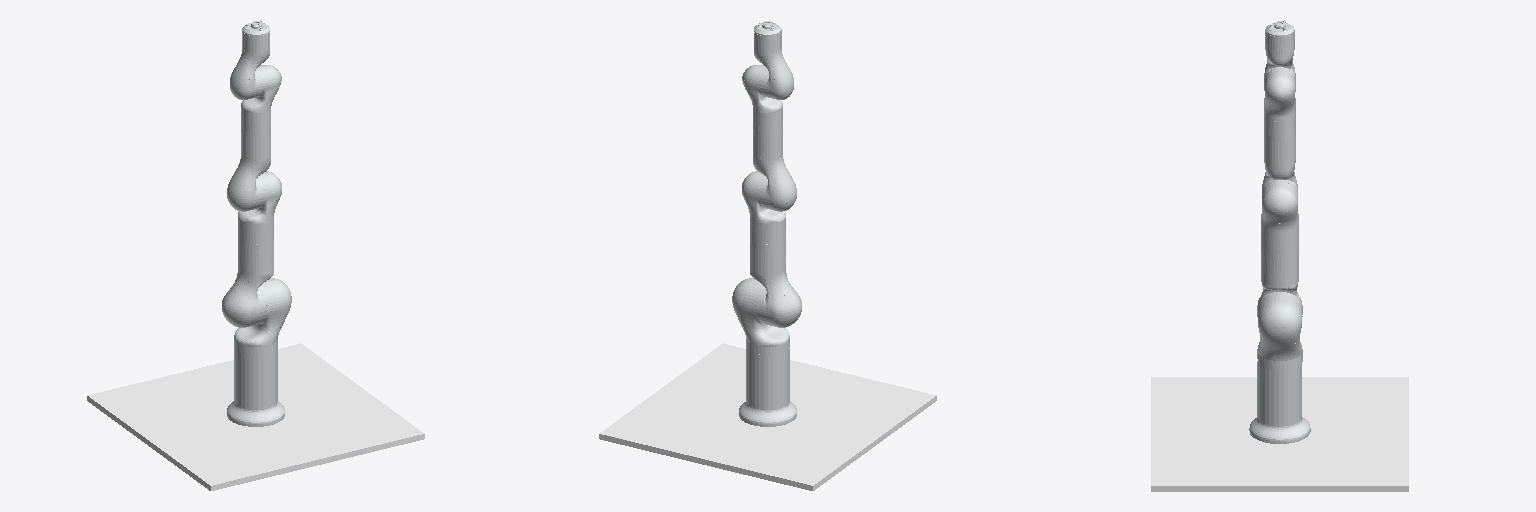
robot.urdf — orochi7:
<?xml version="1.0" encoding="utf-8"?>
<!-- This URDF was automatically created by SolidWorks to URDF Exporter! Originally created by [author] ([email redacted]) 
     Commit Version: 1.5.1-0-g916b5db  Build Version: 1.5.7152.31018
     For more information, please see http://wiki.ros.org/sw_urdf_exporter -->
<robot
  name="orochi7" xmlns:xacro="http://ros.org/wiki/xacro">

<!-- ########### Defining the colors used in this robot ########### -->

  <material name="White">
      <color rgba="0.898039215686275 0.917647058823529 0.929411764705882 1"/>
  </material>

<!-- ##########################base_link########################## -->
  <link name="dummy">
    </link>
  <link
    name="base_link">
    <inertial>
      <origin
        xyz="0 0 0.01"
        rpy="0 0 0" />
      <mass
        value="12.8" />
      <inertia
        ixx="0.683093333333333"
        ixy="0"
        ixz="0"
        iyy="0.683093333333333"
        iyz="0"
        izz="1.36533333333333" />
    </inertial>

    <visual>
      <origin
        xyz="0 0 0"
        rpy="0 0 0" />
      <geometry>
        <mesh
          filename="package://orochi7/meshes/base_link.STL" />
      </geometry>
      <material
        name="">
        <color
          rgba="1 1 1 1" />
      </material>
    </visual>
    <collision>
      <origin
        xyz="0 0 0"
        rpy="0 0 0" />
      <geometry>
        <mesh
          filename="package://orochi7/meshes/base_link.STL" />
      </geometry>
    </collision>
  </link>

  <joint name="dummy_joint" type="fixed">
    <parent link="dummy"/>
    <child link="base_link"/>
  </joint>
<!-- ##########################link_0########################## -->

  <link
    name="Link_0">
    <inertial>
      <origin
        xyz="2.2136457538879E-08 -2.79407750550348E-07 0.0924156438654813"
        rpy="0 0 0" />
      <mass
        value="1.88014486866152" />
      <inertia
        ixx="0.0151317721890805"
        ixy="1.2237952342225E-08"
        ixz="2.08088296155032E-09"
        iyy="0.0151316127478672"
        iyz="-2.626438310439E-08"
        izz="0.010038350425731" />
    </inertial>
    <visual>
      <origin
        xyz="0 0 0"
        rpy="0 0 0" />
      <geometry>
        <mesh
          filename="package://orochi7/meshes/Link_0.STL" />
      </geometry>
      <material
        name="">
        <color
          rgba="0.898039215686275 0.917647058823529 0.929411764705882 1" />
      </material>
    </visual>
    <collision>
      <origin
        xyz="0 0 0"
        rpy="0 0 0" />
      <geometry>
        <mesh
          filename="package://orochi7/meshes/Link_0.STL" />
      </geometry>
    </collision>
  </link>
  <joint
    name="joint_0"
    type="fixed">
    <origin
      xyz="0 0 0.02"
      rpy="0 0 0" />
    <parent
      link="base_link" />
    <child
      link="Link_0" />
    <axis
      xyz="0 0 0" />
  </joint>

<!-- ##########################Link_1########################## -->

  <link
    name="Link_1">
    <inertial>
      <origin
        xyz="0.0228471602671468 0.000500609688309121 0.0788576426309777"
        rpy="0 0 0" />
      <mass
        value="2.51197128388461" />
      <inertia
        ixx="0.012008081154807"
        ixy="-2.56915293947424E-05"
        ixz="-0.00152433945966359"
        iyy="0.0101247306598904"
        iyz="-8.26381083889673E-06"
        izz="0.00695225382377171" />
    </inertial>
    <visual>
      <origin
        xyz="0 0 0"
        rpy="0 0 0" />
      <geometry>
        <mesh
          filename="package://orochi7/meshes/Link_1.STL" />
      </geometry>
      <material
        name="">
        <color
          rgba="0.898039215686275 0.917647058823529 0.929411764705882 1" />
      </material>
    </visual>
    <collision>
      <origin
        xyz="0 0 0"
        rpy="0 0 0" />
      <geometry>
        <mesh
          filename="package://orochi7/meshes/Link_1.STL" />
      </geometry>
    </collision>
  </link>
  <joint
    name="joint_1"
    type="revolute">
    <origin
      xyz="0 0 0.23849"
      rpy="0 0 0" />
    <parent
      link="Link_0" />
    <child
      link="Link_1" />
    <axis
      xyz="0 0 1" />
    <limit
      lower="-2.967"
      upper="2.967"
      effort="1000"
      velocity="2" />
  </joint>

<!-- ##########################Link_2########################## -->

  <link
    name="Link_2">
    <inertial>
      <origin
        xyz="4.36134385775678E-05 -0.0969448215522462 0.0240523906851286"
        rpy="0 0 0" />
      <mass
        value="2.30470481838206" />
      <inertia
        ixx="0.0145281343817937"
        ixy="3.77897817051715E-06"
        ixz="1.59621986654239E-06"
        iyy="0.00621283066084087"
        iyz="-0.00239478598373043"
        izz="0.0155561583121572" />
    </inertial>
    <visual>
      <origin
        xyz="0 0 0"
        rpy="0 0 0" />
      <geometry>
        <mesh
          filename="package://orochi7/meshes/Link_2.STL" />
      </geometry>
      <material
        name="">
        <color
          rgba="0.898039215686275 0.917647058823529 0.929411764705882 1" />
      </material>
    </visual>
    <collision>
      <origin
        xyz="0 0 0"
        rpy="0 0 0" />
      <geometry>
        <mesh
          filename="package://orochi7/meshes/Link_2.STL" />
      </geometry>
    </collision>
  </link>
  <joint
    name="joint_2"
    type="revolute">
    <origin
      xyz="0.00024 0 0.161"
      rpy="-1.5708 0 1.5708" />
    <parent
      link="Link_1" />
    <child
      link="Link_2" />
    <axis
      xyz="0 0 1" />
    <limit
      lower="-2.094"
      upper="2.094"
      effort="1000"
      velocity="2" />
  </joint>

<!-- ##########################Link_3########################## -->

  <link
    name="Link_3">
    <inertial>
      <origin
        xyz="0.018048779946475 0.000129409806994231 0.106756804682869"
        rpy="0 0 0" />
      <mass
        value="1.01352215483001" />
      <inertia
        ixx="0.00444118911054174"
        ixy="-2.48194706399251E-06"
        ixz="-0.000457698659442359"
        iyy="0.00389291293176773"
        iyz="-1.33064047944416E-05"
        izz="0.00213921148827011" />
    </inertial>
    <visual>
      <origin
        xyz="0 0 0"
        rpy="0 0 0" />
      <geometry>
        <mesh
          filename="package://orochi7/meshes/Link_3.STL" />
      </geometry>
      <material
        name="">
        <color
          rgba="0.898039215686275 0.917647058823529 0.929411764705882 1" />
      </material>
    </visual>
    <collision>
      <origin
        xyz="0 0 0"
        rpy="0 0 0" />
      <geometry>
        <mesh
          filename="package://orochi7/meshes/Link_3.STL" />
      </geometry>
    </collision>
  </link>
  <joint
    name="joint_3"
    type="revolute">
    <origin
      xyz="2.9731E-05 -0.23575 -0.00062409"
      rpy="1.5708 1.5708 0" />
    <parent
      link="Link_2" />
    <child
      link="Link_3" />
    <axis
      xyz="0 0 1" />
    <limit
      lower="-2.967"
      upper="2.967"
      effort="1000"
      velocity="2" />
  </joint>

<!-- ##########################Link_4########################## -->

  <link
    name="Link_4">
    <inertial>
      <origin
        xyz="5.31189394567101E-06 0.100689878757625 -0.01854742769486"
        rpy="0 0 0" />
      <mass
        value="1.87808667560675" />
      <inertia
        ixx="0.0103397145130341"
        ixy="2.51804015290146E-07"
        ixz="-5.76016285909608E-08"
        iyy="0.00359399190823215"
        iyz="-0.00169270806100584"
        izz="0.0105901135679184" />
    </inertial>
    <visual>
      <origin
        xyz="0 0 0"
        rpy="0 0 0" />
      <geometry>
        <mesh
          filename="package://orochi7/meshes/Link_4.STL" />
      </geometry>
      <material
        name="">
        <color
          rgba="0.898039215686275 0.917647058823529 0.929411764705882 1" />
      </material>
    </visual>
    <collision>
      <origin
        xyz="0 0 0"
        rpy="0 0 0" />
      <geometry>
        <mesh
          filename="package://orochi7/meshes/Link_4.STL" />
      </geometry>
    </collision>
  </link>
  <joint
    name="joint_4"
    type="revolute">
    <origin
      xyz="-0.00011409 -3.235E-05 0.16375"
      rpy="1.5708 0 1.5708" />
    <parent
      link="Link_3" />
    <child
      link="Link_4" />
    <axis
      xyz="0 0 -1" />
    <limit
      lower="-2.094"
      upper="2.094"
      effort="1000"
      velocity="2" />
  </joint>

<!-- ##########################Link_5########################## -->

  <link
    name="Link_5">
    <inertial>
      <origin
        xyz="0.0194131556776644 -4.28172832716598E-05 -0.107325643866726"
        rpy="0 0 0" />
      <mass
        value="0.892428647320994" />
      <inertia
        ixx="0.00338370651671834"
        ixy="-5.50969359424124E-07"
        ixz="0.000365304335885818"
        iyy="0.00301833489256761"
        iyz="-2.20632524303577E-06"
        izz="0.00135669086771338" />
    </inertial>
    <visual>
      <origin
        xyz="0 0 0"
        rpy="0 0 0" />
      <geometry>
        <mesh
          filename="package://orochi7/meshes/Link_5.STL" />
      </geometry>
      <material
        name="">
        <color
          rgba="0.898039215686275 0.917647058823529 0.929411764705882 1" />
      </material>
    </visual>
    <collision>
      <origin
        xyz="0 0 0"
        rpy="0 0 0" />
      <geometry>
        <mesh
          filename="package://orochi7/meshes/Link_5.STL" />
      </geometry>
    </collision>
  </link>
  <joint
    name="joint_5"
    type="revolute">
    <origin
      xyz="-2.9588E-05 0.22974 -0.00010578"
      rpy="1.5708 -1.5708 0" />
    <parent
      link="Link_4" />
    <child
      link="Link_5" />
    <axis
      xyz="0 0 -1" />
    <limit
      lower="-2.967"
      upper="2.967"
      effort="1000"
      velocity="2" />
  </joint>

<!-- ##########################Link_6########################## -->

  <link
    name="Link_6">
    <inertial>
      <origin
        xyz="1.376E-05 -0.04188 0.027899"
        rpy="0 0 0" />
      <mass
        value="2.3887" />
      <inertia
        ixx="0.0090274"
        ixy="2.9426E-06"
        ixz="-2.0317E-06"
        iyy="0.0030811"
        iyz="-0.0016392"
        izz="0.009105" />
    </inertial>
    <visual>
      <origin
        xyz="0 0 0"
        rpy="0 0 0" />
      <geometry>
        <mesh
          filename="package://orochi7/meshes/Link_6.STL" />
      </geometry>
      <material
        name="">
        <color
          rgba="0.89804 0.91765 0.92941 1" />
      </material>
    </visual>
    <collision>
      <origin
        xyz="0 0 0"
        rpy="0 0 0" />
      <geometry>
        <mesh
          filename="package://orochi7/meshes/Link_6.STL" />
      </geometry>
    </collision>
  </link>
  <joint
    name="joint_6"
    type="revolute">
    <origin
      xyz="0.0026058 -3.2208E-05 -0.15975"
      rpy="1.5708 0 -1.5708" />
    <parent
      link="Link_5" />
    <child
      link="Link_6" />
    <axis
      xyz="0 0 -1" />
    <limit
      lower="-2.094"
      upper="2.094"
      effort="1000"
      velocity="2" />
  </joint>

<!-- ##########################Link_7########################## -->

  <link
    name="Link_7">
    <inertial>
      <origin
        xyz="4.02145722769179E-06 4.01778957818443E-06 0.0075636449697063"
        rpy="0 0 0" />
      <mass
        value="0.225884416364818" />
      <inertia
        ixx="0.000104188659613568"
        ixy="7.81396930623823E-09"
        ixz="-1.39484791249742E-08"
        iyy="0.000104188604048643"
        iyz="-1.39362927624144E-08"
        izz="0.000193927698384735" />
    </inertial>
    <visual>
      <origin
        xyz="0 0 0"
        rpy="0 0 0" />
      <geometry>
        <mesh
          filename="package://orochi7/meshes/Link_7.STL" />
      </geometry>
      <material
        name="">
        <color
          rgba="0.898039215686275 0.917647058823529 0.929411764705882 1" />
      </material>
    </visual>
    <collision>
      <origin
        xyz="0 0 0"
        rpy="0 0 0" />
      <geometry>
        <mesh
          filename="package://orochi7/meshes/Link_7.STL" />
      </geometry>
    </collision>
  </link>
  <joint
    name="joint_7"
    type="revolute">
    <origin
      xyz="0 -0.1845 0.00175"
      rpy="1.5708 1.5708 0" />
    <parent
      link="Link_6" />
    <child
      link="Link_7" />
    <axis
      xyz="0 0 -1" />
    <limit
      lower="-3.054"
      upper="3.054"
      effort="1000"
      velocity="2" />
  </joint>

</robot>

--- Render facts (derived) ---
The picture shows the robot from 3 angles, left to right: view 1: azimuth 30°, elevation 25°; view 2: azimuth 150°, elevation 25°; view 3: azimuth 270°, elevation 25°; orthographic projection.
Model orochi7 with 10 links and 9 joints (7 revolute, 2 fixed), rooted at dummy, posed every joint at zero.
Links seen in each view (by area): view 1: base_link, Link_0, Link_2, Link_4, Link_1, Link_6, Link_3, Link_5; view 2: base_link, Link_0, Link_2, Link_4, Link_1, Link_6, Link_3, Link_5; view 3: base_link, Link_0, Link_1, Link_3, Link_5, Link_2, Link_4, Link_6.
Link boxes in pixels (x1,y1,x2,y2): base_link: [87, 343, 424, 490]; Link_0: [227, 348, 284, 426]; Link_2: [222, 239, 273, 327]; Link_4: [227, 128, 270, 211]; Link_1: [234, 278, 291, 356]; Link_6: [230, 31, 269, 99]; Link_3: [238, 171, 281, 244]; Link_5: [241, 65, 281, 132]; base_link: [599, 343, 936, 490]; Link_0: [739, 348, 796, 426]; Link_2: [750, 239, 801, 327]; Link_4: [753, 128, 796, 211]; Link_1: [732, 278, 789, 356]; Link_6: [754, 31, 793, 99]; Link_3: [742, 171, 785, 244]; Link_5: [742, 65, 782, 132]; base_link: [1151, 377, 1408, 491]; Link_0: [1249, 361, 1310, 443]; Link_1: [1257, 294, 1302, 370]; Link_3: [1261, 182, 1298, 253]; Link_5: [1264, 70, 1295, 137]; Link_2: [1257, 248, 1302, 314]; Link_4: [1262, 132, 1297, 192]; Link_6: [1264, 32, 1295, 81].
Bounding box of the posed robot: 0.8 × 0.8 × 1.42 m (x, y, z).
Meshes: 9 distinct files referenced, 9 mesh visuals loaded (9 binary STL).
